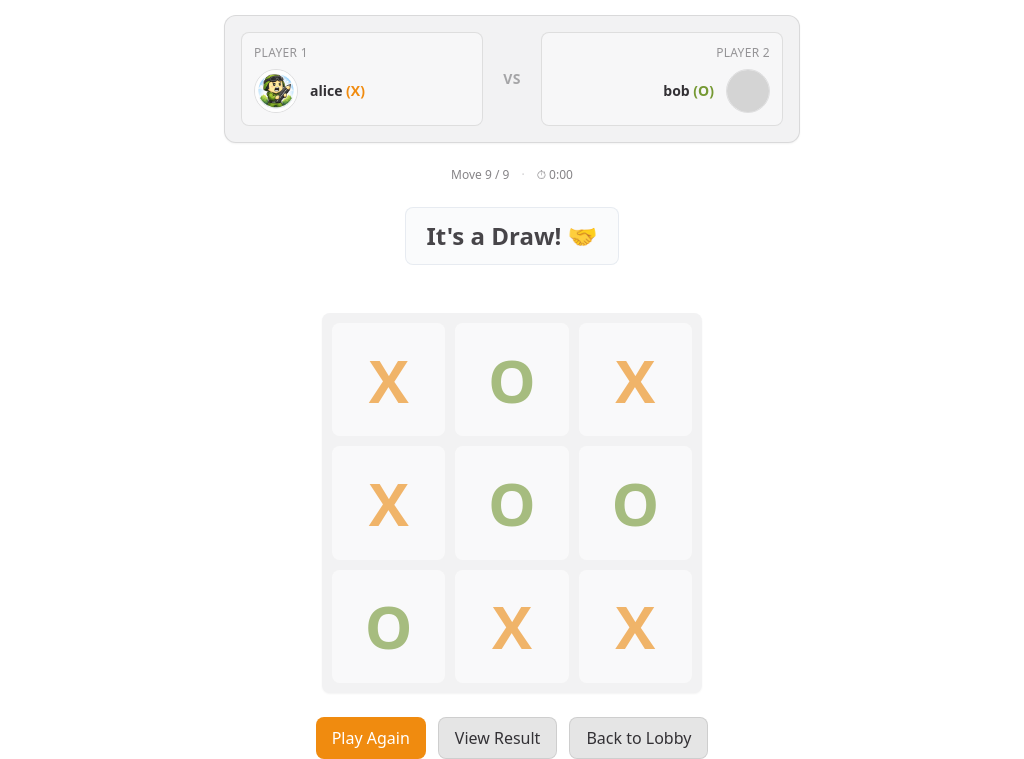
Game page socket wiring › maps shared player contract across room_joined and game_over payloads
(page scrolled)
Click the button "View Result" at point(498, 738), box [438,717,557,758]
(page scrolled)
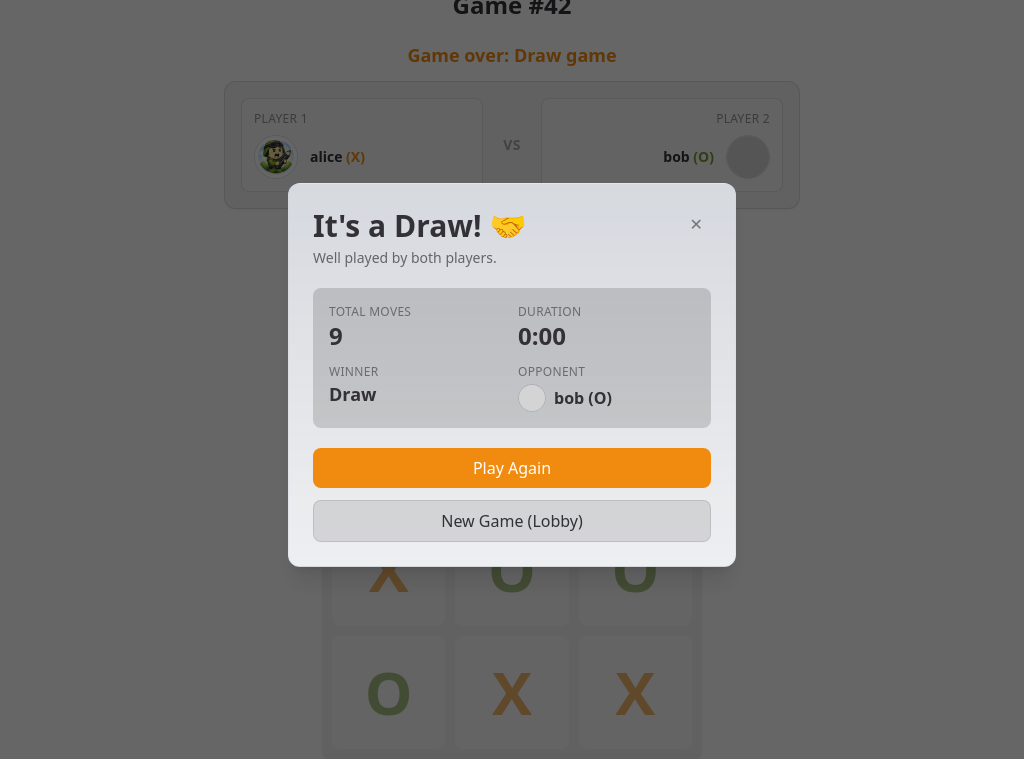
Expected: the text "bob (O)" is shown, [554,386,612,410]
